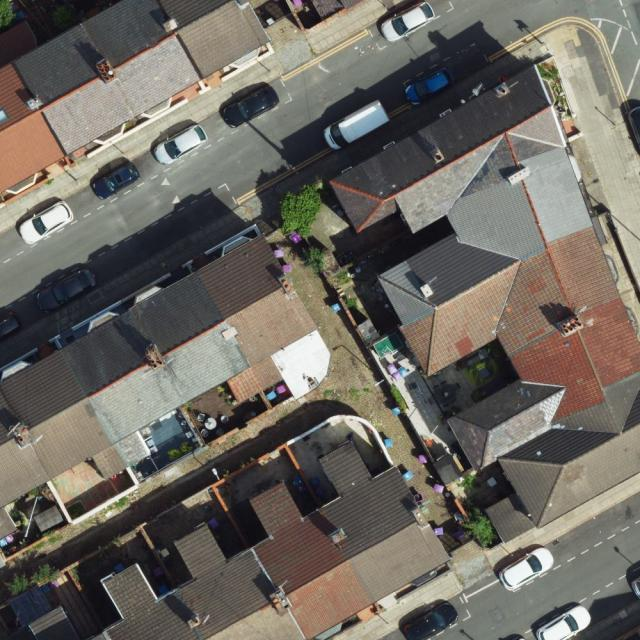roof: (331, 66, 640, 543), (0, 232, 319, 539), (96, 441, 450, 640), (0, 0, 272, 194), (29, 605, 82, 640)
